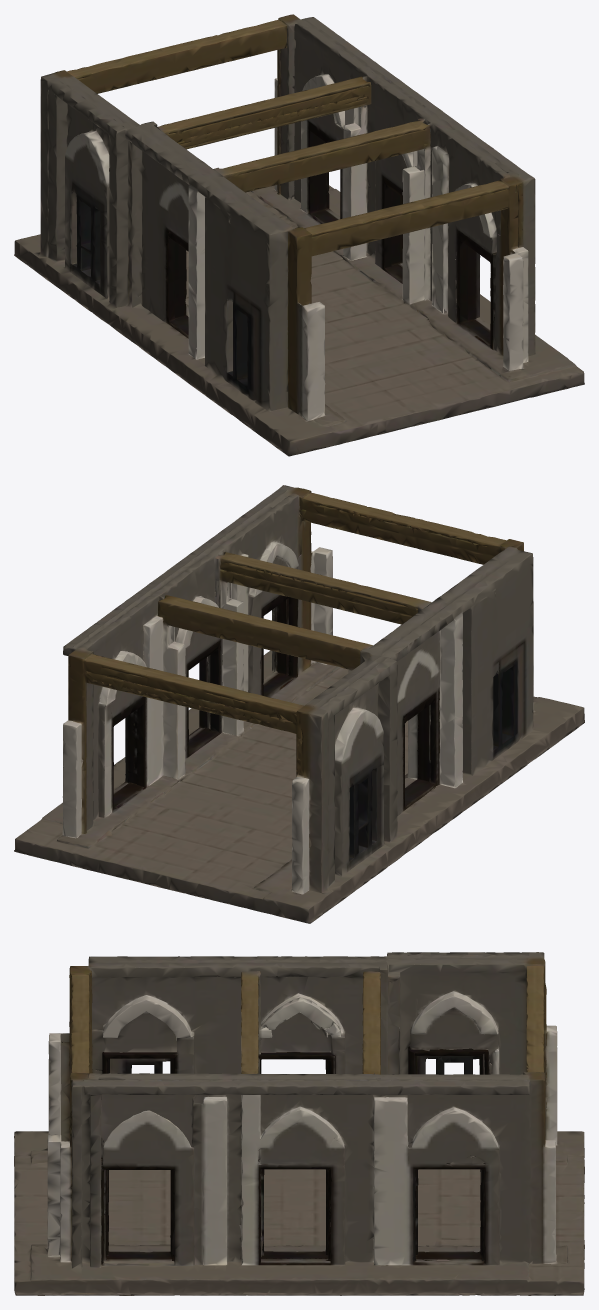
File: el-morsi-abu-el-abbas-mosque-square-1.glb
3 renders of one model, top to bottom at view 1: azimuth 30°, elevation 25°; view 2: azimuth 150°, elevation 25°; view 3: azimuth 270°, elevation 25°, orthographic. The views are drawn at different scales.
Bounding box in the file's own units: 0.6231 × 0.3887 × 1.
1 material, 1 textured.
